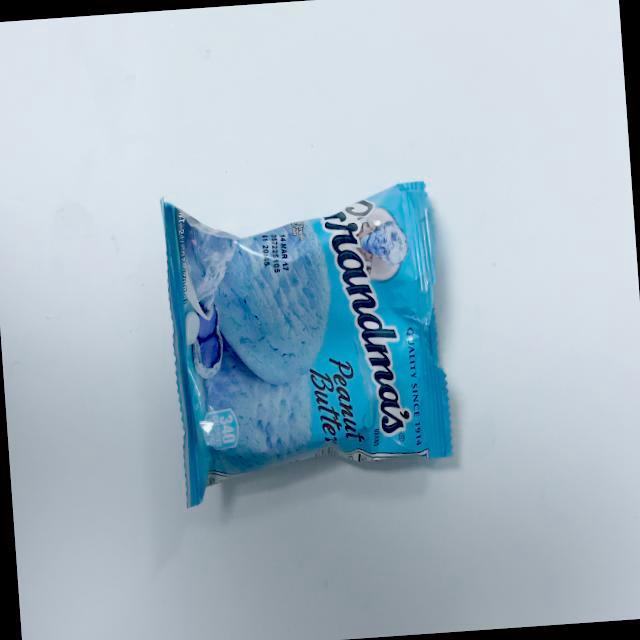plastic: (112, 156, 476, 514)
